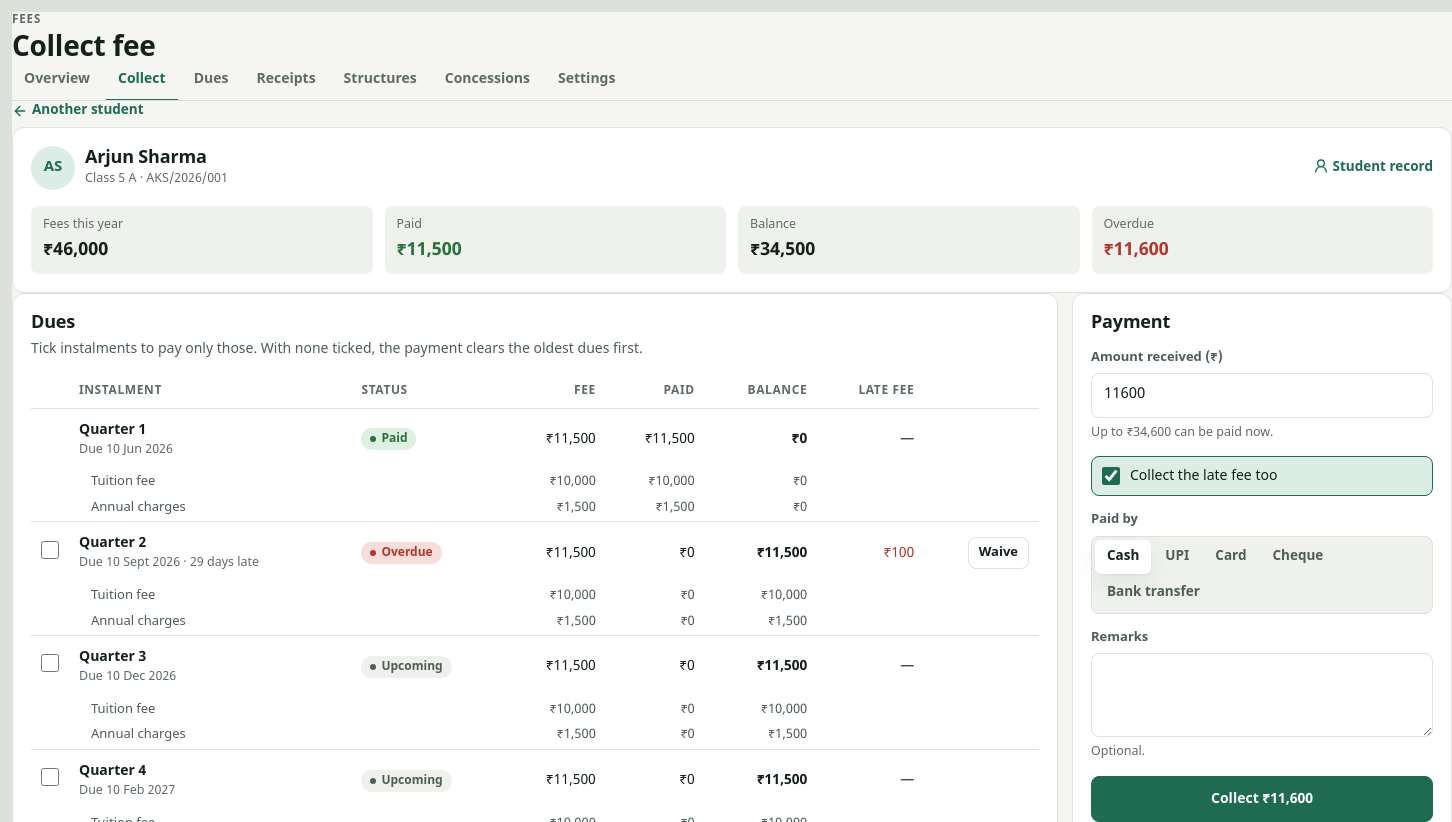
Test: CollectView › shows the API's field error when the amount is refused
Click the button "Collect ₹11,600" at (1262, 799), box [1091, 776, 1433, 821]
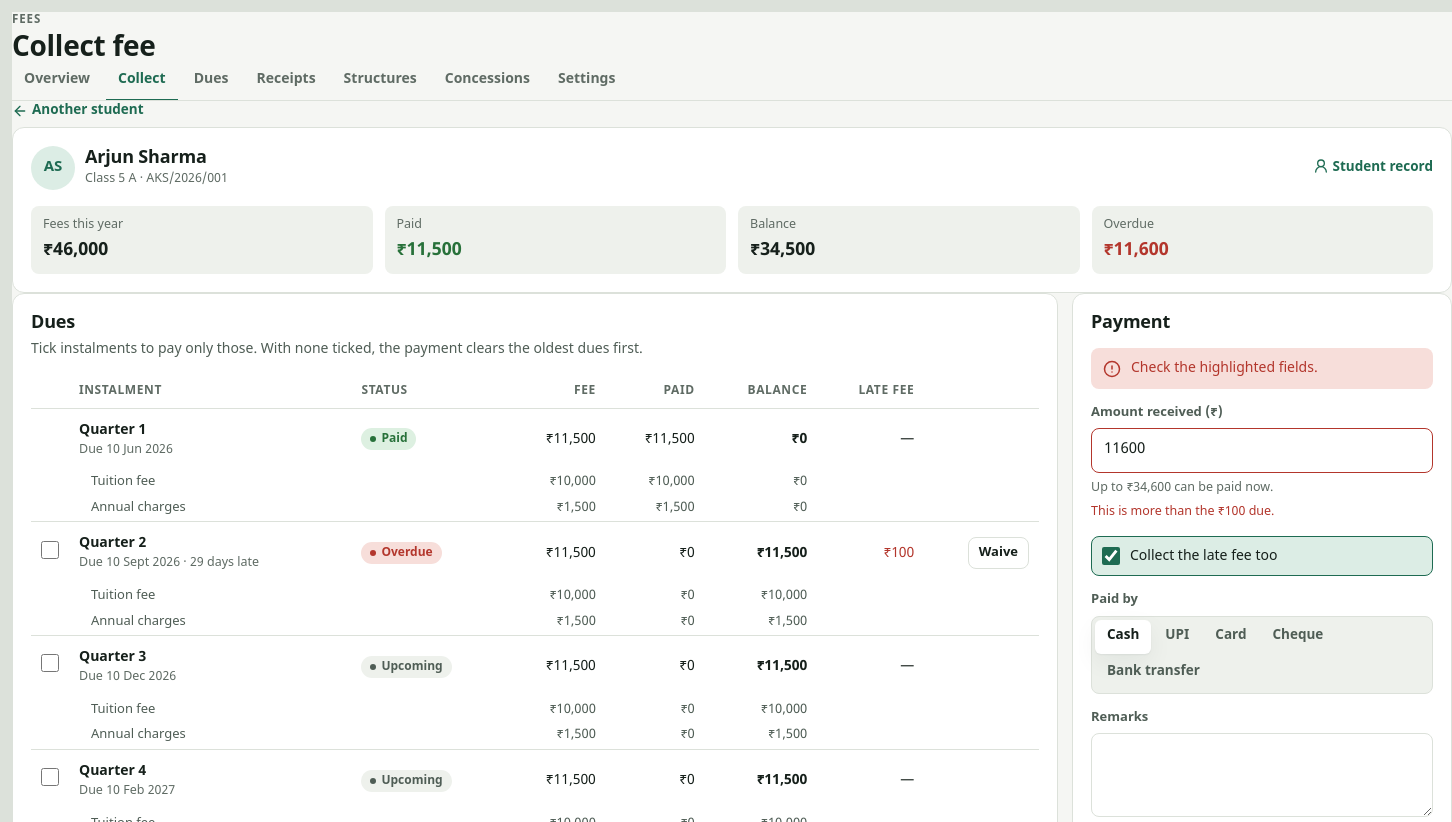
Result: the text "This is more than the ₹100 due." is shown at [1091, 504, 1274, 520]
